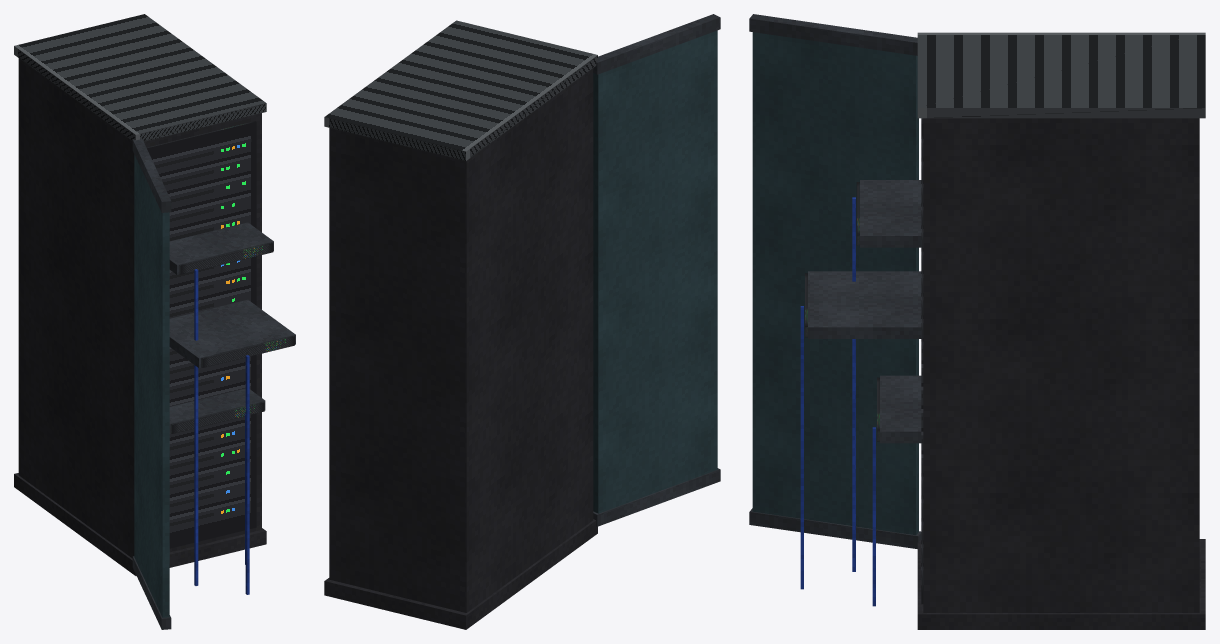
Rendered from tfg_server_rack_open.glb.
The picture shows the model from 3 angles, left to right: view 1: azimuth 30°, elevation 25°; view 2: azimuth 150°, elevation 25°; view 3: azimuth 270°, elevation 25°; orthographic projection. The views are drawn at different scales.
Visible parts, largest first — view 1: tfg_server_rack_open; view 2: tfg_server_rack_open; view 3: tfg_server_rack_open.
Boxes of the visible parts, x1,y1,x2,y2 form: tfg_server_rack_open: (14,14,295,629); tfg_server_rack_open: (324,14,720,629); tfg_server_rack_open: (749,14,1205,629).
Size of the model in its own units: 0.8261 by 2 by 1.58.
Materials: 6 (6 with a texture image).
